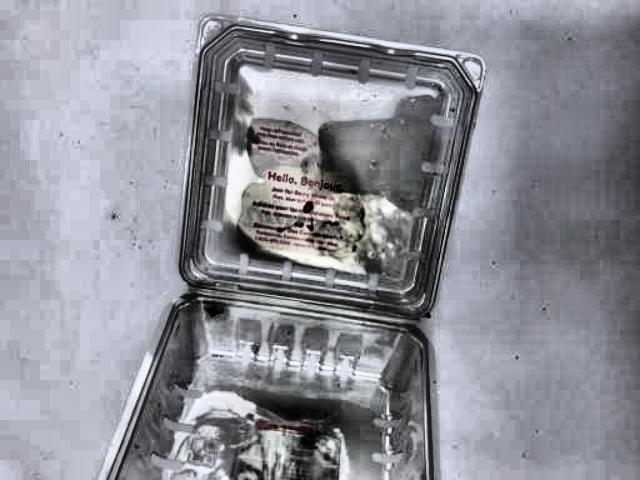Plastic: (76, 18, 512, 480)
